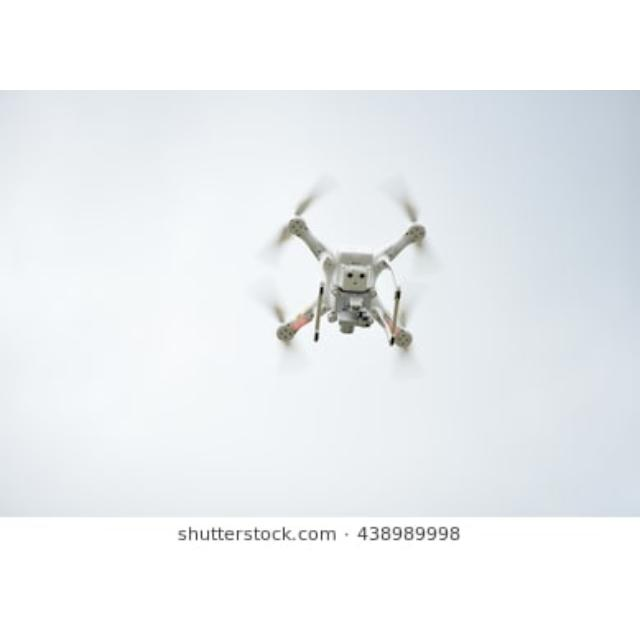Drones: (258, 182, 434, 362)
